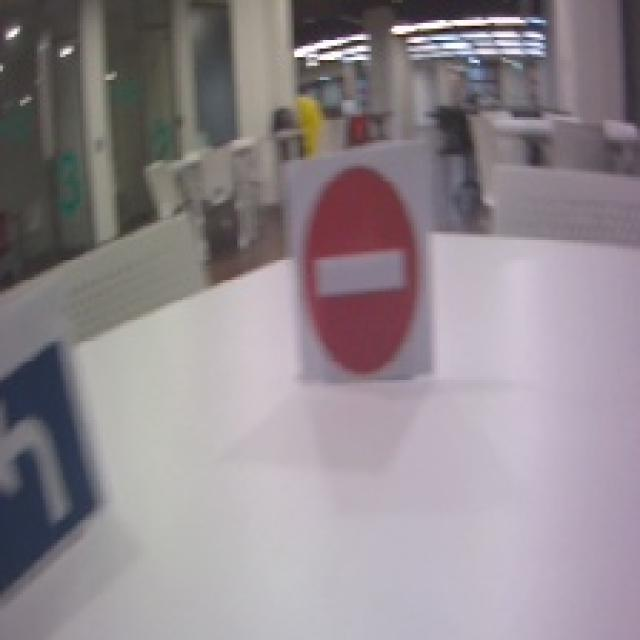DoNotEnterSign: (300, 163, 420, 372)
